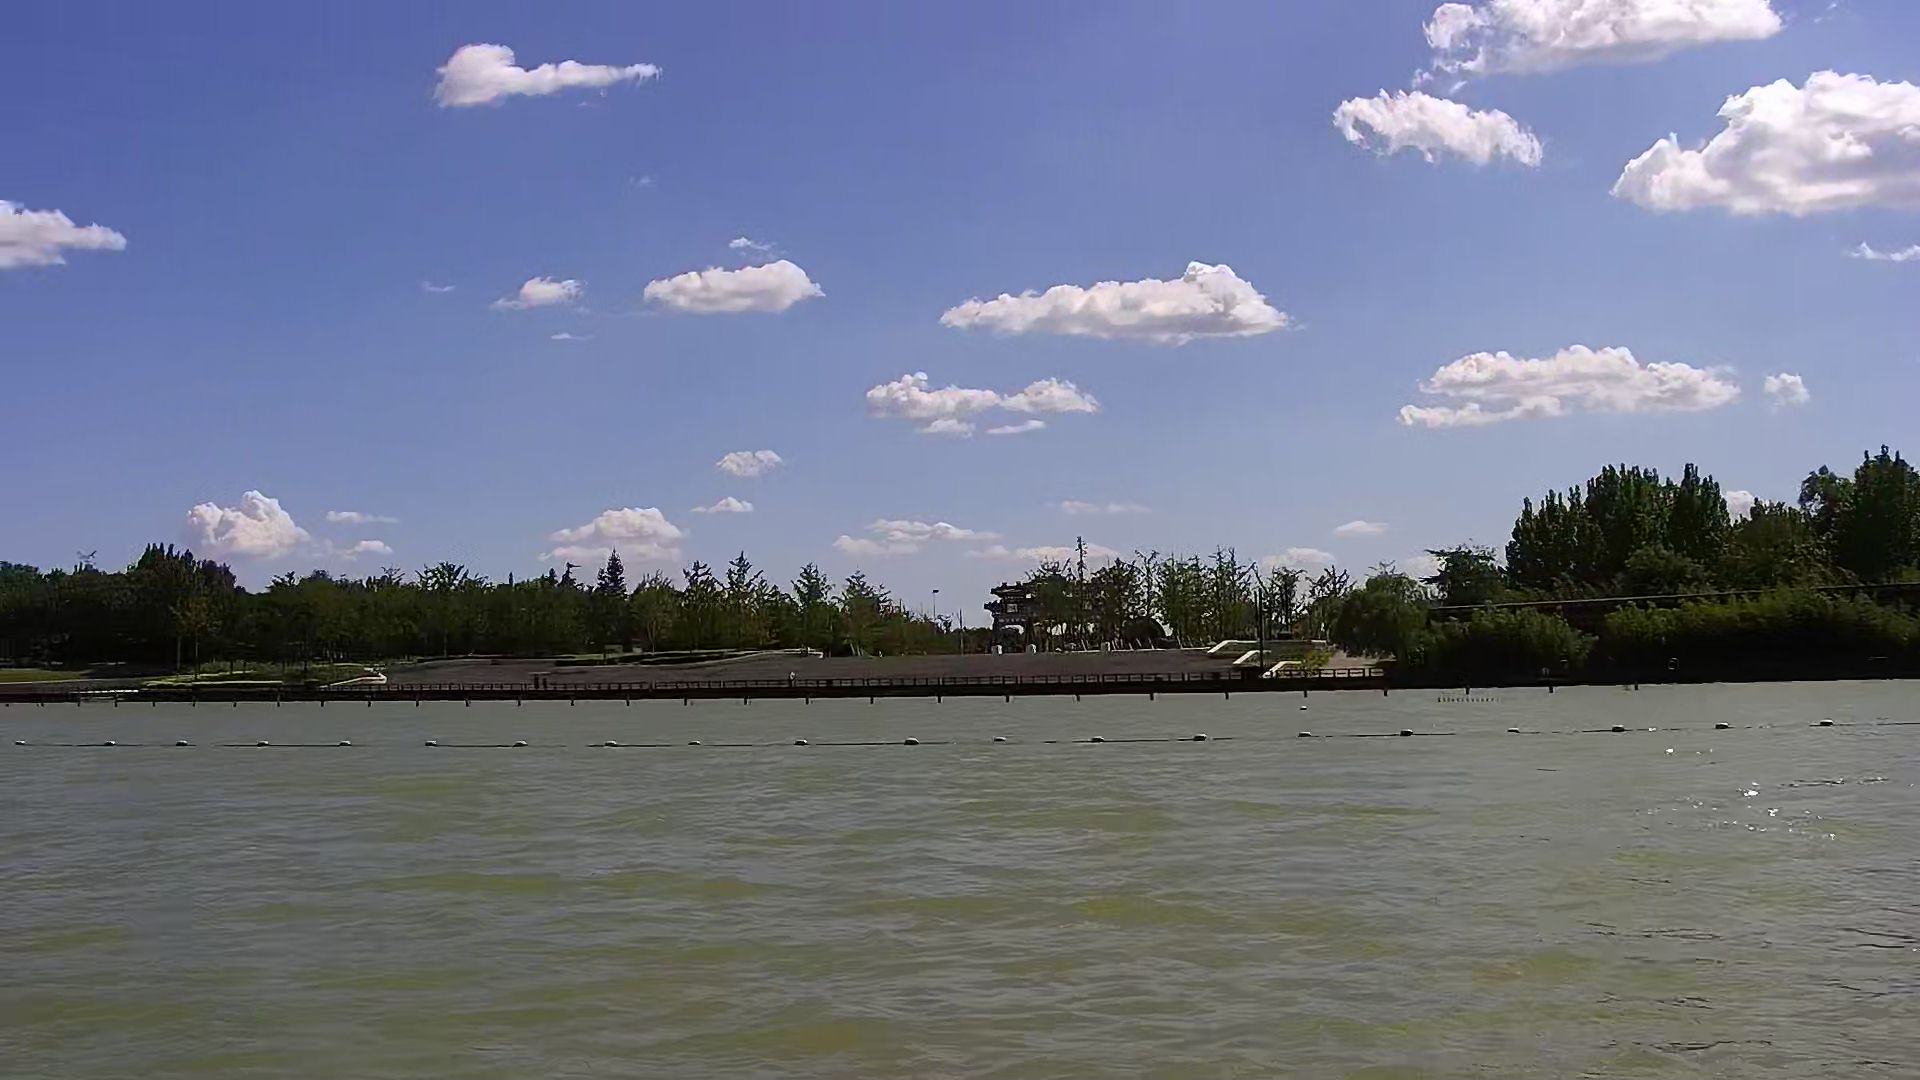ball: (1187, 727, 1216, 752), (506, 731, 535, 752), (1393, 721, 1422, 742), (1607, 717, 1635, 737), (248, 735, 274, 754), (1712, 717, 1737, 737), (898, 731, 922, 749)
harbor: (1, 644, 1404, 699)
